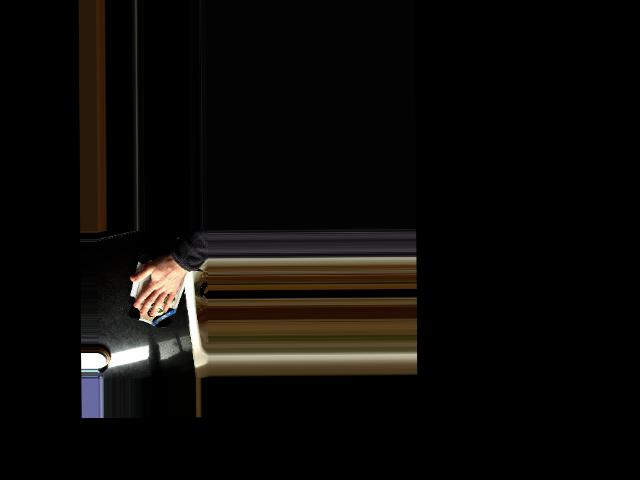cheese: (125, 252, 191, 329)
